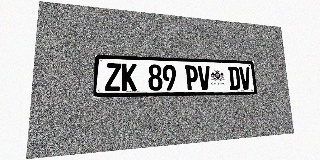8: (148, 64, 163, 91)
9: (162, 65, 176, 90)
D: (228, 66, 241, 90)
K: (121, 63, 137, 91)
P: (185, 65, 198, 90)
V: (198, 66, 211, 90), (239, 67, 251, 90)
Z: (105, 63, 121, 91)
